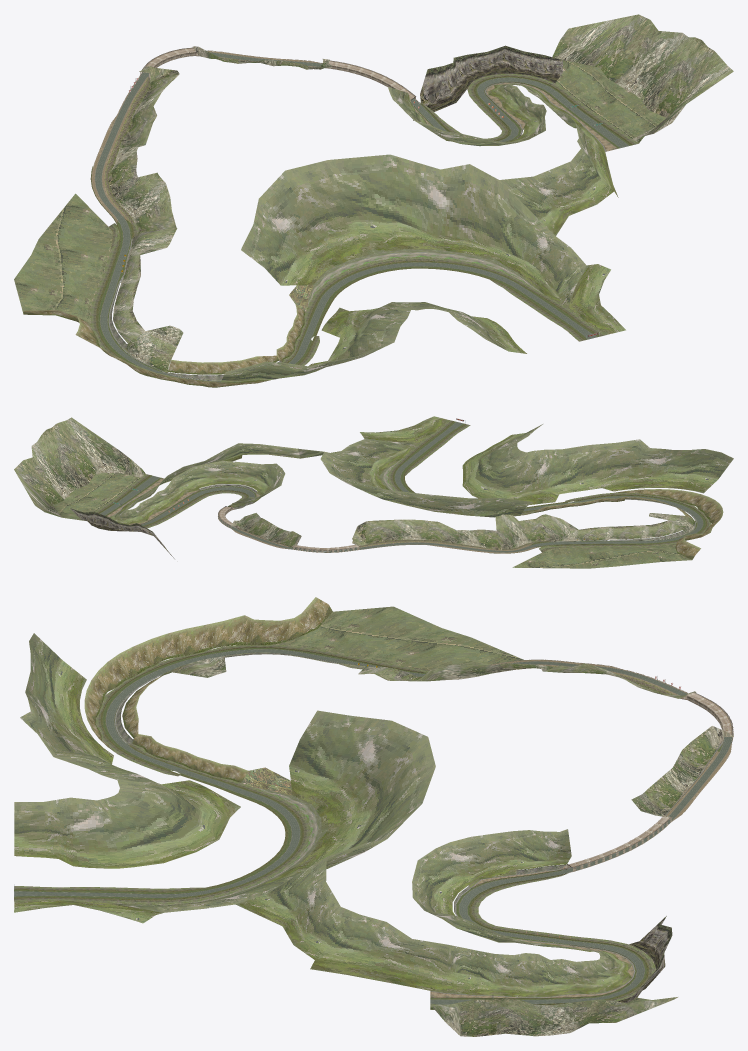
File: stage-alpi-env.glb
3 views of the same model, one above another, from view 1: azimuth 30°, elevation 25°; view 2: azimuth 150°, elevation 25°; view 3: azimuth 270°, elevation 25° (orthographic). The views are drawn at different scales.
Visible parts, largest first — view 1: env part 1 chunk -1,-2, env part 1 chunk 2,-4, env part 1 chunk -4,-3, env part 1 chunk 1,-4, env part 1 chunk -3,-4, env part 1 chunk 1,-5, env part 1 chunk -4,-2, env part 1 chunk -3,-1, env part 1 chunk -3,-2, env part 1 chunk -2,-1, env part 1 chunk -2,-2, env part 0 chunk -3,-4 (+12 smaller); view 2: env part 1 chunk -3,-1, env part 1 chunk 2,-4, env part 1 chunk -1,-2, env part 1 chunk 1,-4, env part 1 chunk -3,-4, env part 1 chunk -2,-1, env part 1 chunk -4,-3, env part 1 chunk -4,-2, env part 1 chunk -4,-1, env part 1 chunk 1,-5, env part 1 chunk -1,-5, env part 1 chunk -3,-2 (+13 smaller); view 3: env part 1 chunk 1,-4, env part 1 chunk -1,-2, env part 1 chunk -3,-1, env part 1 chunk -2,-1, env part 1 chunk -4,-3, env part 1 chunk -4,-2, env part 1 chunk 2,-4, env part 1 chunk -1,-5, env part 1 chunk -3,-2, env part 1 chunk -3,-4, env part 1 chunk -4,-1, env part 1 chunk 1,-5 (+14 smaller).
Boxes of the visible parts, x1,y1,x2,y2 form: env part 1 chunk -1,-2: (241, 154, 625, 334); env part 1 chunk 2,-4: (550, 14, 733, 145); env part 1 chunk -4,-3: (14, 193, 126, 329); env part 1 chunk 1,-4: (388, 83, 618, 215); env part 1 chunk -3,-4: (90, 65, 179, 252); env part 1 chunk 1,-5: (413, 45, 565, 120); env part 1 chunk -4,-2: (23, 248, 187, 378); env part 1 chunk -3,-1: (221, 302, 507, 381); env part 1 chunk -3,-2: (168, 305, 319, 374); env part 1 chunk -2,-1: (220, 307, 526, 383); env part 1 chunk -2,-2: (289, 260, 351, 330); env part 0 chunk -3,-4: (91, 147, 131, 231); env part 1 chunk -3,-1: (476, 424, 733, 502); env part 1 chunk 2,-4: (14, 417, 150, 520); env part 1 chunk -1,-2: (298, 416, 532, 517); env part 1 chunk 1,-4: (109, 443, 300, 524); env part 1 chunk -3,-4: (352, 514, 571, 553); env part 1 chunk -2,-1: (462, 433, 717, 504); env part 1 chunk -4,-3: (512, 538, 691, 568); env part 1 chunk -4,-2: (564, 508, 723, 559); env part 1 chunk -4,-1: (615, 489, 722, 520); env part 1 chunk 1,-5: (70, 507, 174, 558); env part 1 chunk -1,-5: (231, 513, 301, 546); env part 1 chunk -3,-2: (534, 494, 693, 519); env part 1 chunk 1,-4: (282, 829, 632, 998); env part 1 chunk -1,-2: (14, 710, 435, 926); env part 1 chunk -3,-1: (14, 633, 202, 848); env part 1 chunk -2,-1: (14, 660, 240, 868); env part 1 chunk -4,-3: (276, 606, 523, 672); env part 1 chunk -4,-2: (133, 597, 377, 687); env part 1 chunk 2,-4: (430, 997, 677, 1036); env part 1 chunk -1,-5: (631, 726, 733, 816); env part 1 chunk -3,-2: (122, 673, 247, 782); env part 1 chunk -3,-4: (359, 659, 696, 698); env part 1 chunk -4,-1: (84, 647, 160, 752); env part 1 chunk 1,-5: (550, 916, 672, 1002).
Bounding box in the file's own units: 2182 × 309 × 1537.
Materials: 41 (40 with a texture image).
